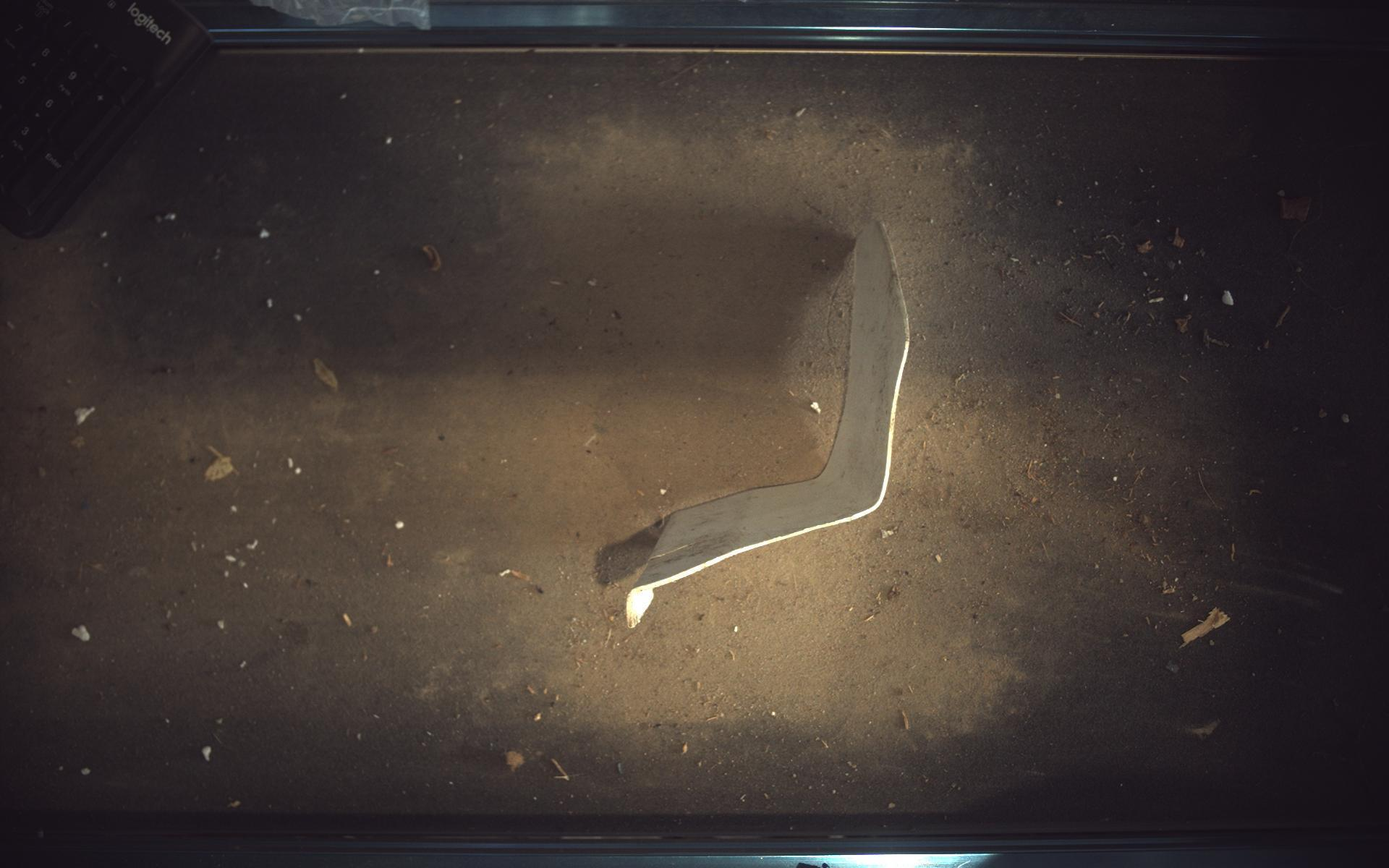plastic: (626, 221, 911, 629)
